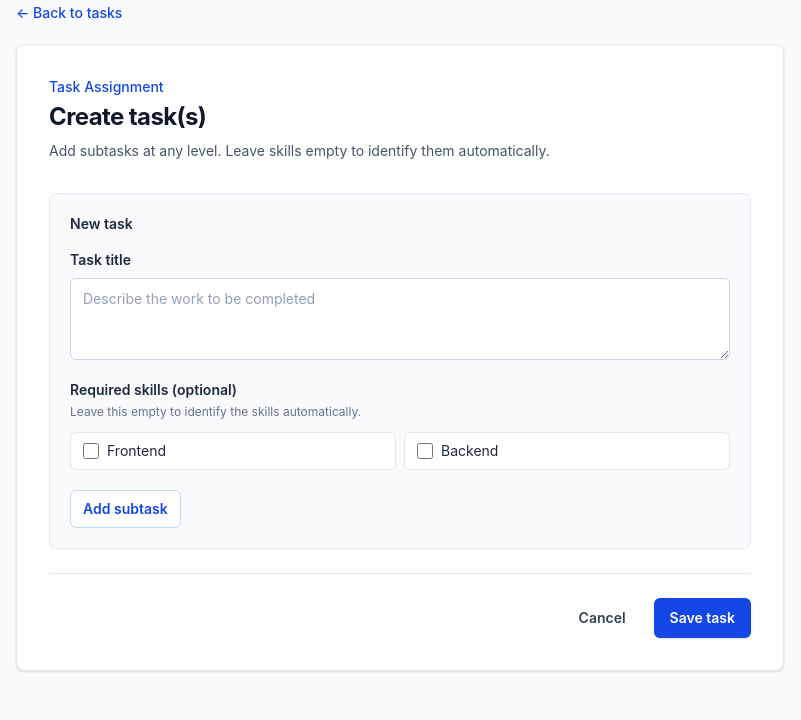
Test case: CreateTaskPage › requires a task title before submitting
Expected: the checkbox labelled "Frontend" is shown, [83,443,99,459]
Click the button "Save task".
click(702, 618)  # box [654,598,751,638]
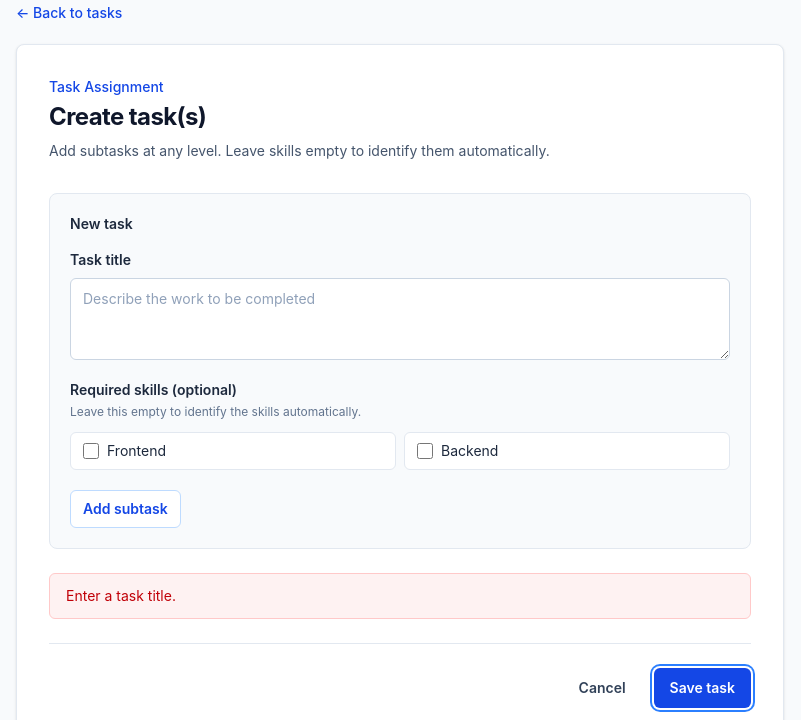
Now the text "Enter a task title." is shown, box [49,573,751,619]
